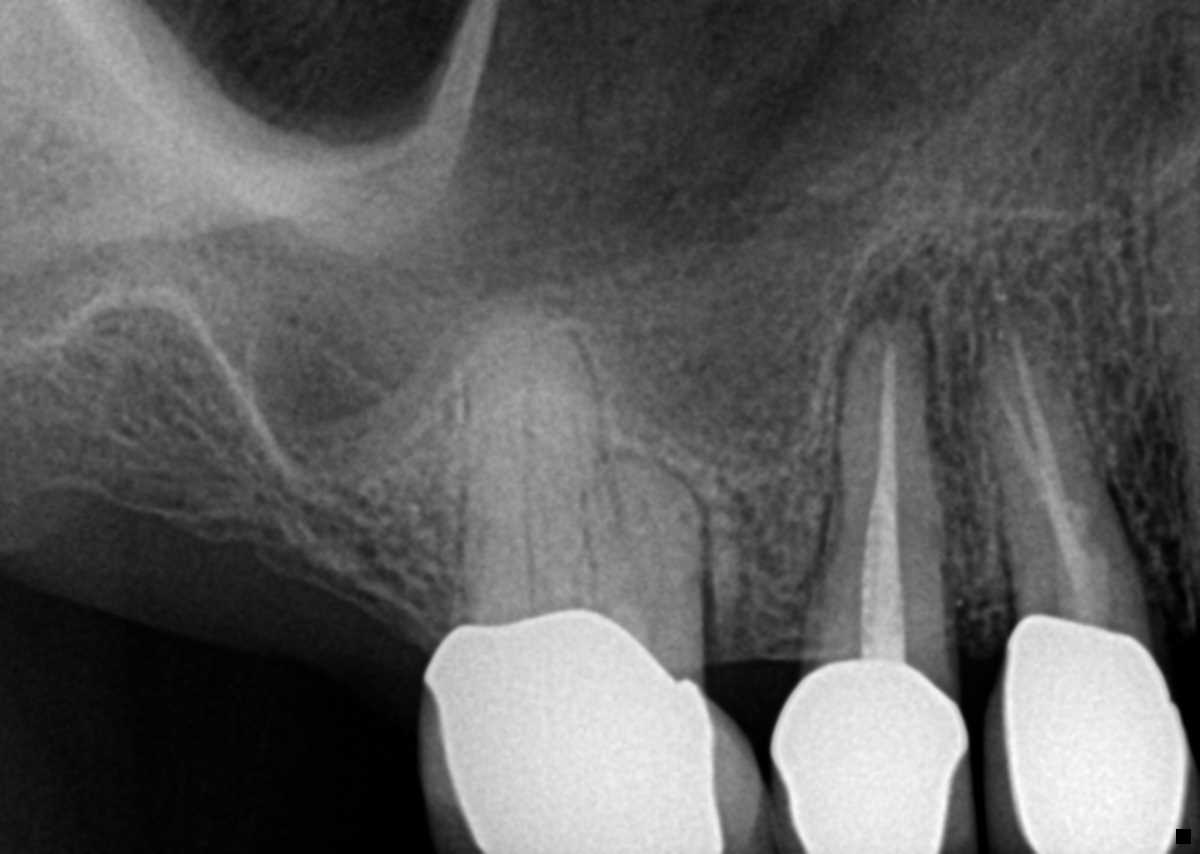Apical Lesion: (830, 257, 949, 438)
Distal Root: (460, 449, 596, 617)
Main Root: (978, 307, 1150, 605), (804, 315, 946, 654), (1139, 93, 1200, 565)
Mesial Root: (583, 449, 710, 669)
Palatal Root: (457, 316, 653, 637)
Root Canal Filling: (989, 333, 1110, 606), (860, 345, 908, 653)
